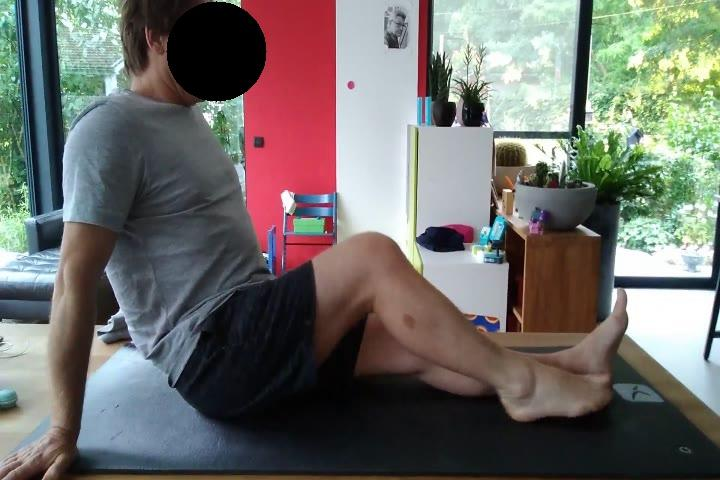lower_body: (171, 228, 633, 426)
